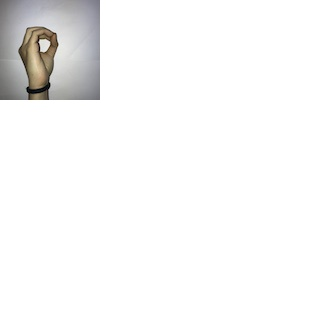rock: (14, 23, 63, 93)
